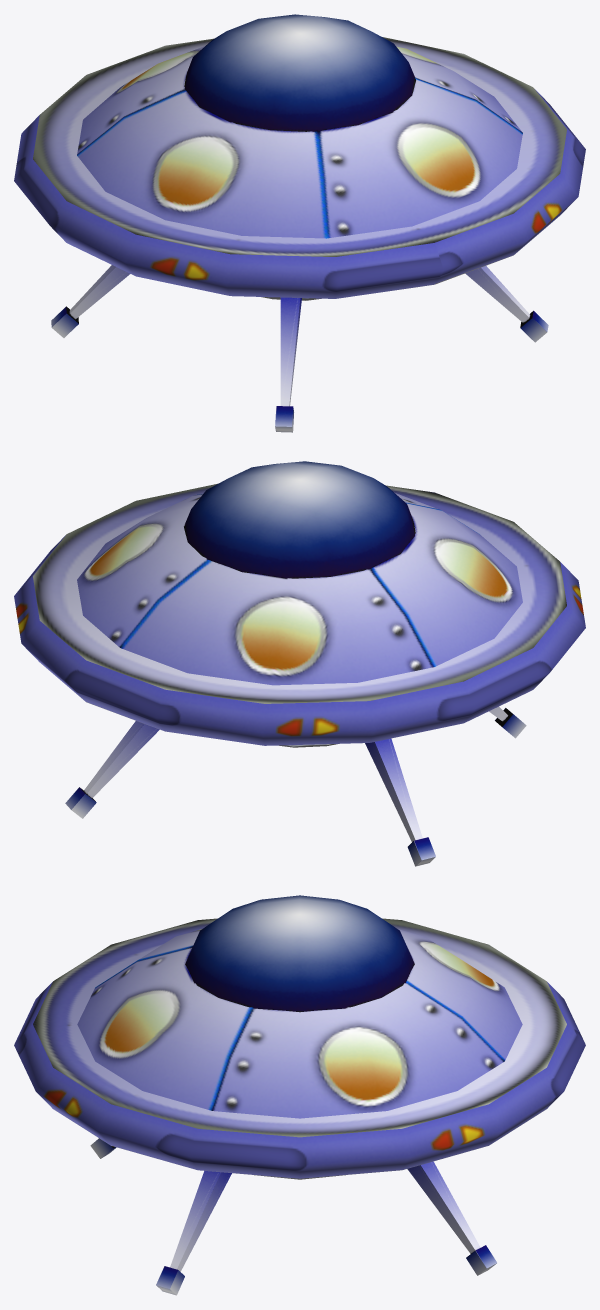
Rendered from ufo.glb.
3 renders of one model, top to bottom at view 1: azimuth 30°, elevation 25°; view 2: azimuth 150°, elevation 25°; view 3: azimuth 270°, elevation 25°, orthographic.
Parts seen in each view (by area): view 1: Cube; view 2: Cube; view 3: Cube.
Boxes of the visible parts, box(x1,y1,x2,y2) form: Cube: box(14, 14, 585, 432); Cube: box(14, 461, 585, 866); Cube: box(14, 895, 585, 1295).
Size of the model in its own units: 69606 by 39830 by 69606.
Materials: 1 (1 with a texture image).
